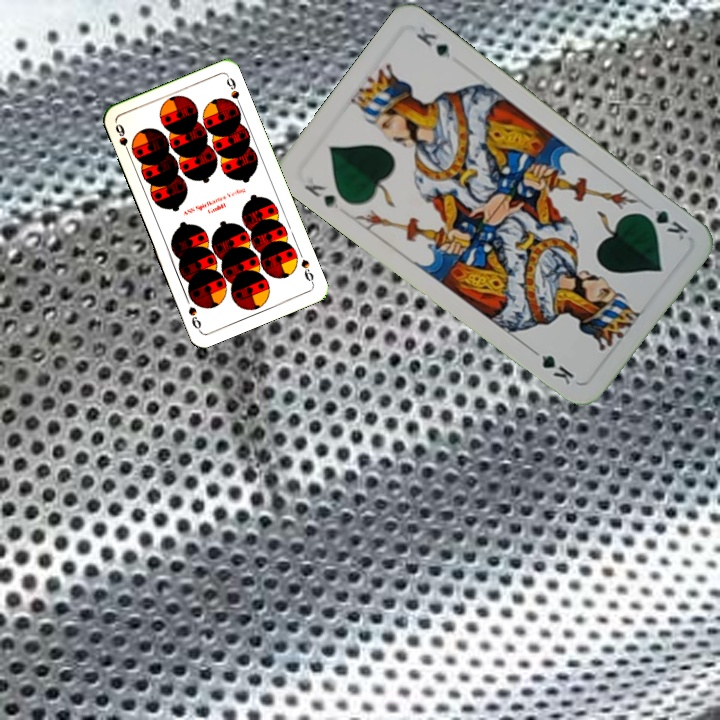GK: (636, 205, 690, 244), (300, 180, 342, 212)
S9: (111, 120, 133, 158), (297, 255, 317, 287)
